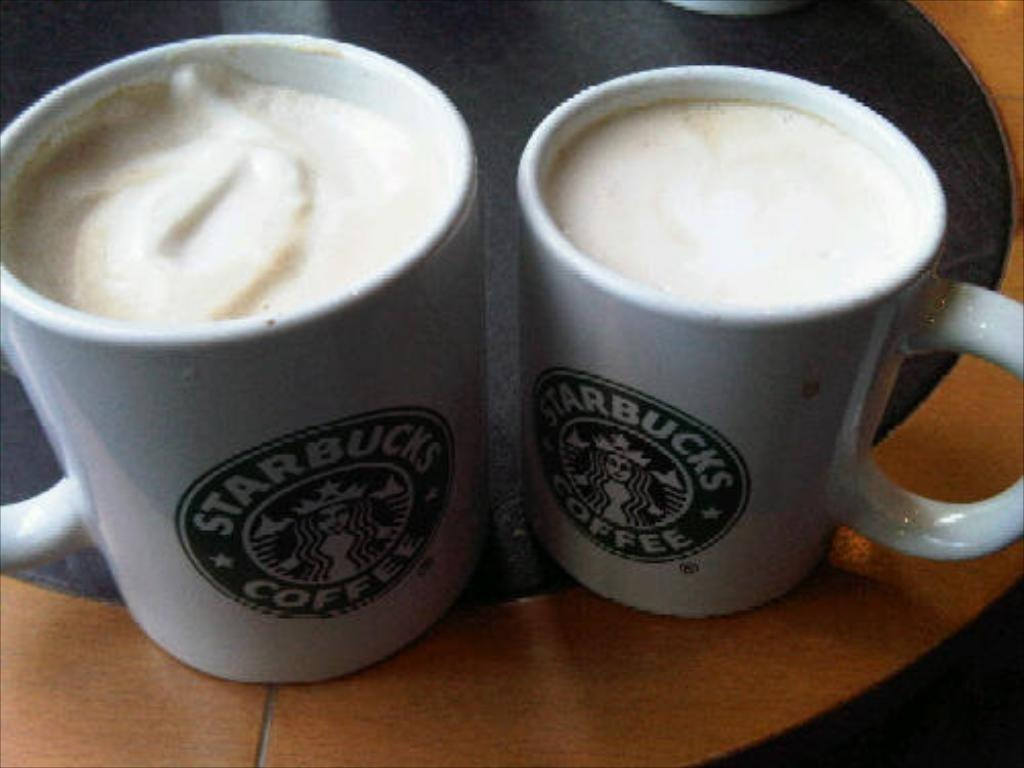cup-handle: (1, 31, 491, 690), (518, 64, 1023, 622)
